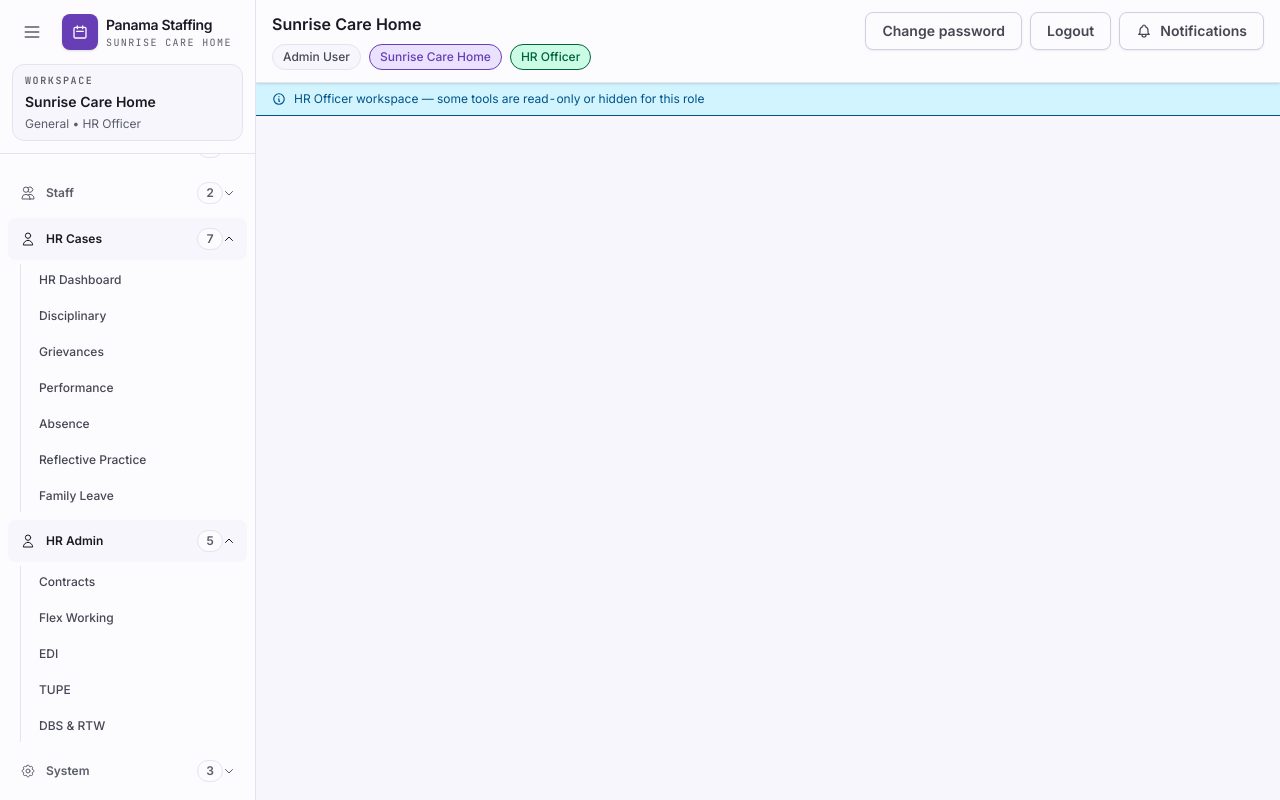
Test: AppLayout › shows Evidence Hub link when the role can read at least one evidence source
The width and height of the screenshot is (1280, 800).
(page scrolled)
Click the button "System 3". click: (128, 771)
box: [8,750,247,792]
(page scrolled)
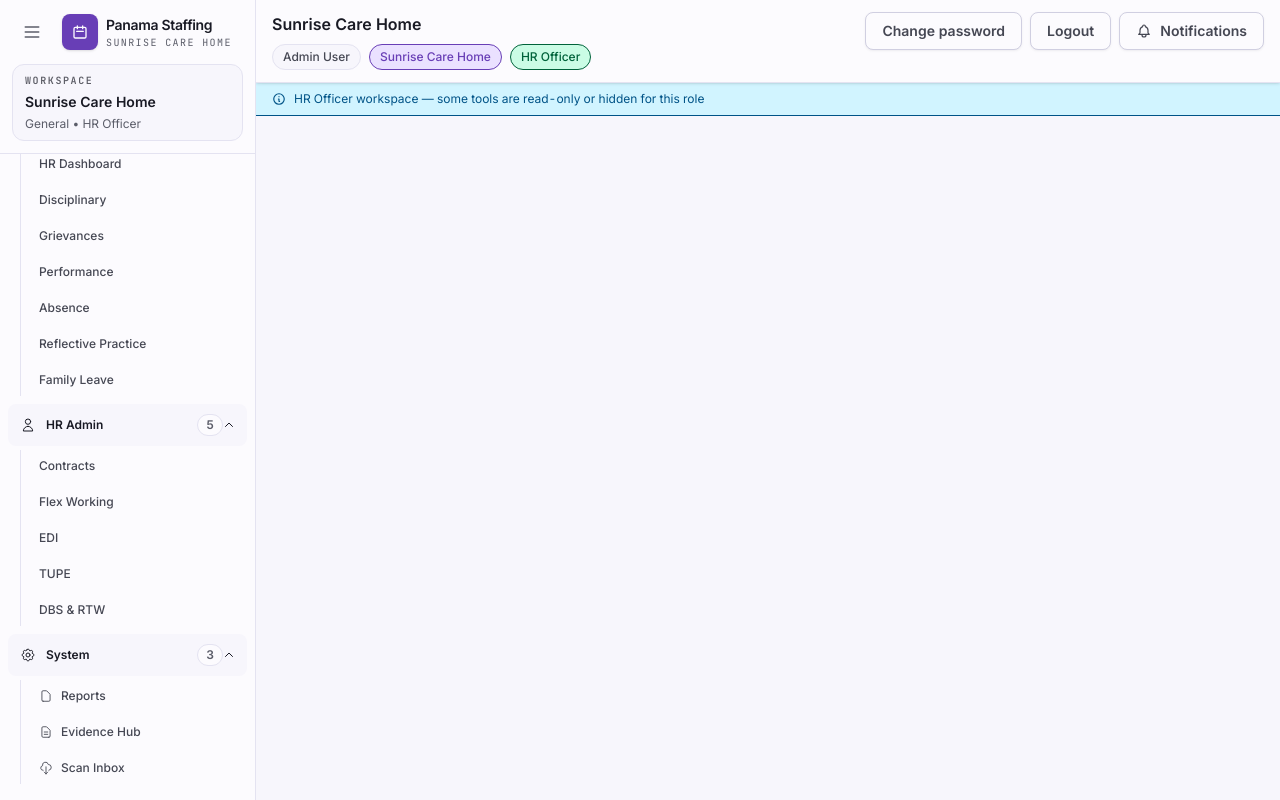
Expected: the link "Evidence Hub" is shown, [39,724,141,739]
